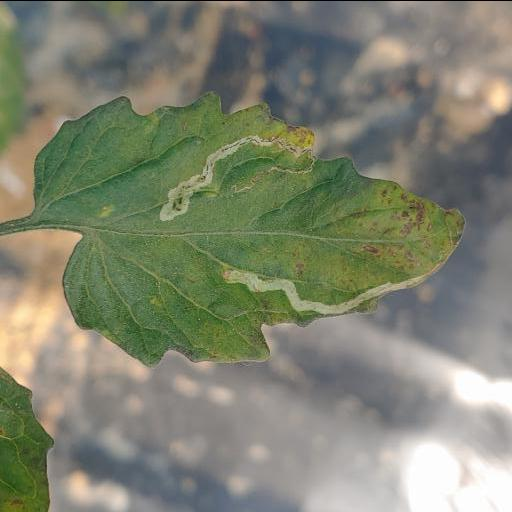disease_tomato: (30, 88, 466, 371)
